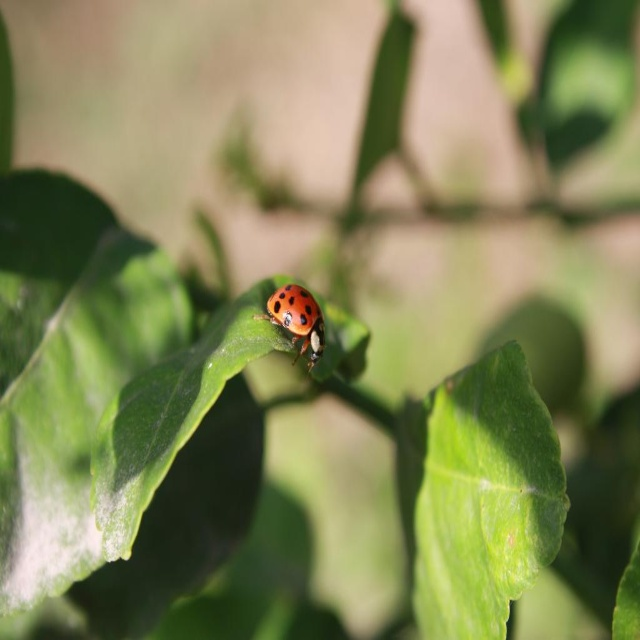Ladybug: (252, 282, 326, 378)
